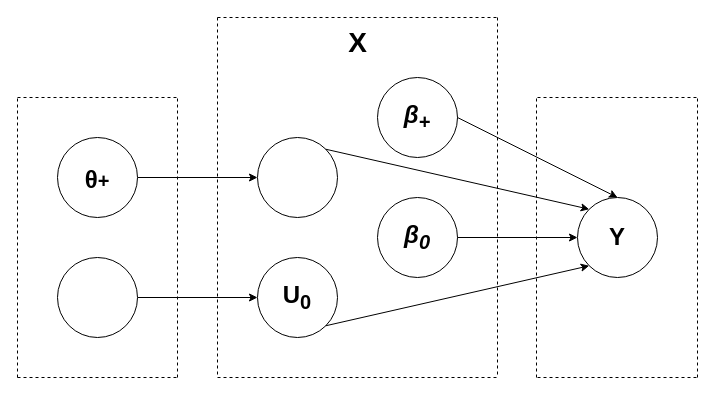
This 716x396 diagram has some shape labels left out. Here are the shapes that lost their labels. From the top down, the centre of each, then its label:
[297,177]: U +
[97,297]: θ 0
